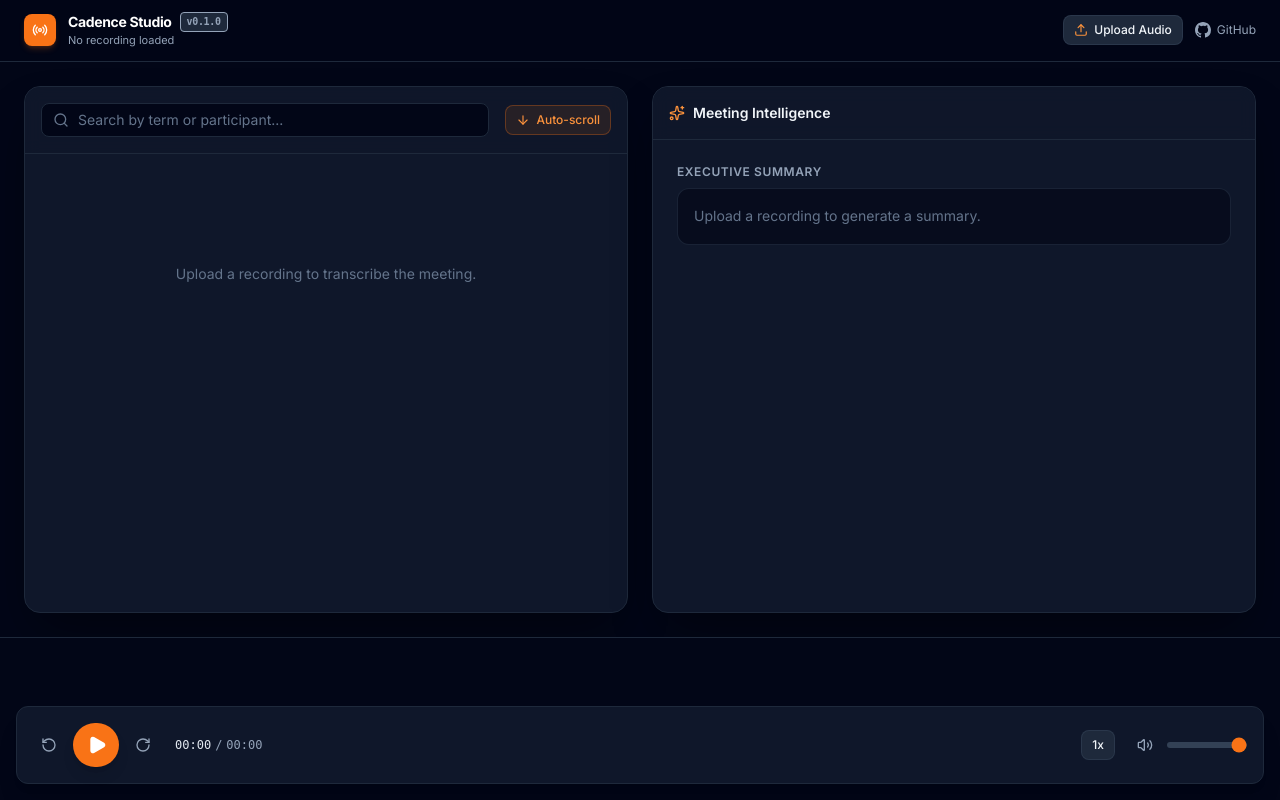
Test: CadenceStudioPage integration › should open audio dropzone modal when upload button is clicked
The image size is (1280, 800).
Click the button titled "Upload an audio file".
click(1123, 30)  # box 1063,15 -> 1183,45
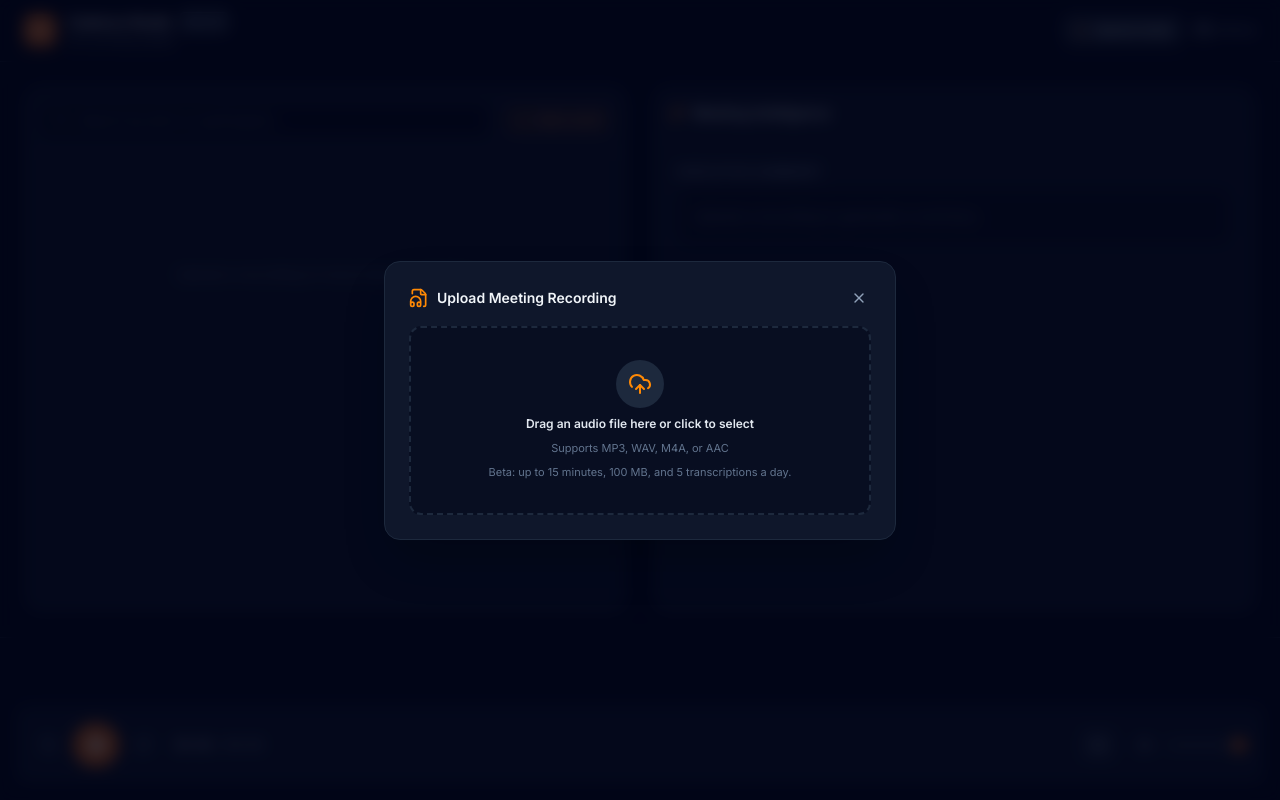
Now the heading "Upload Meeting Recording" is shown, box 437,288 -> 616,308
